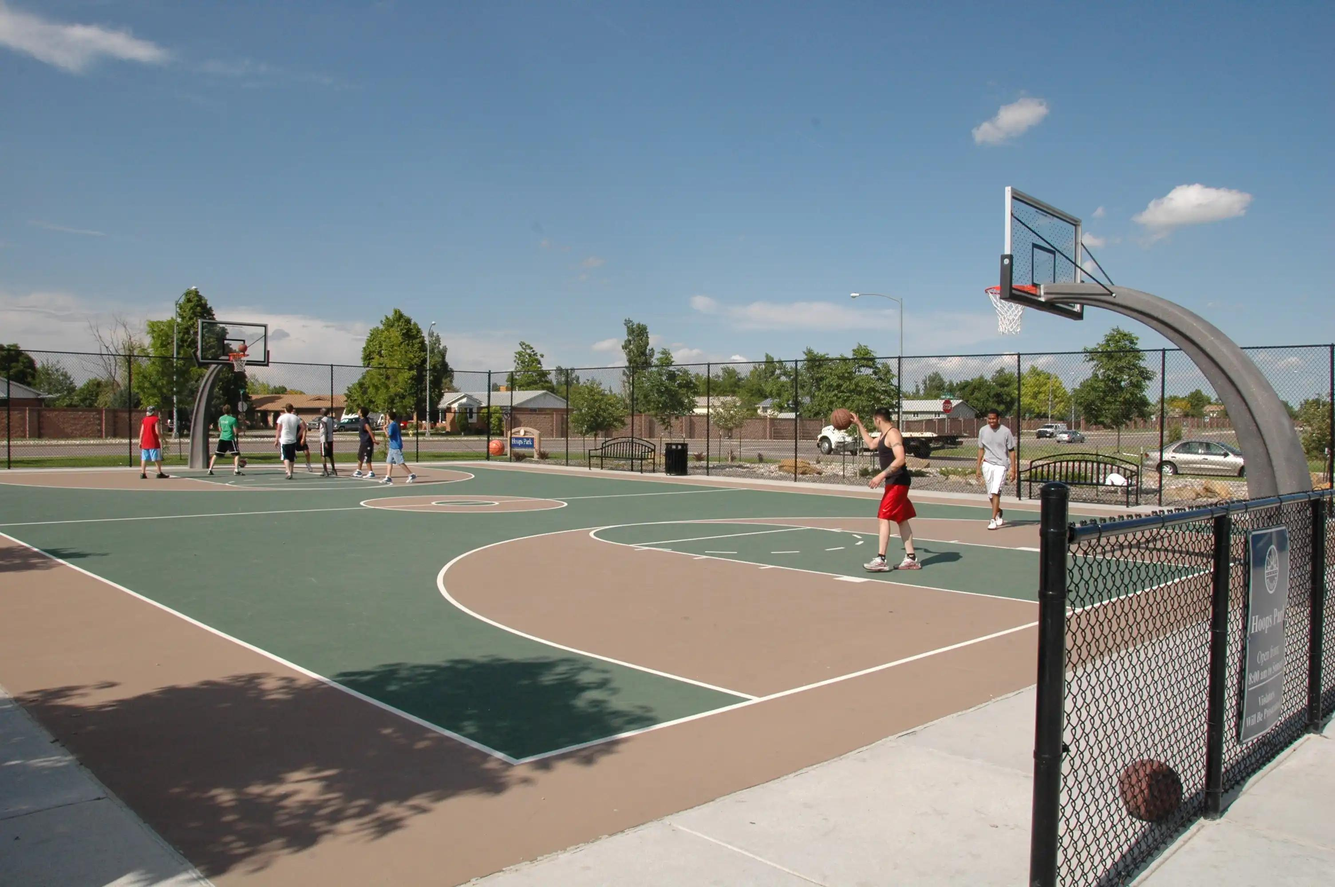basketball: (1118, 757, 1179, 820), (829, 407, 852, 430), (487, 440, 506, 459)
